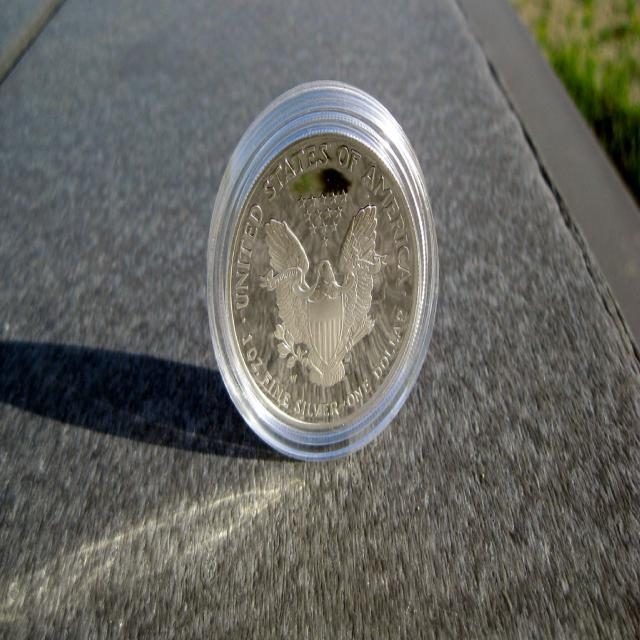Coin: (227, 131, 422, 431)
